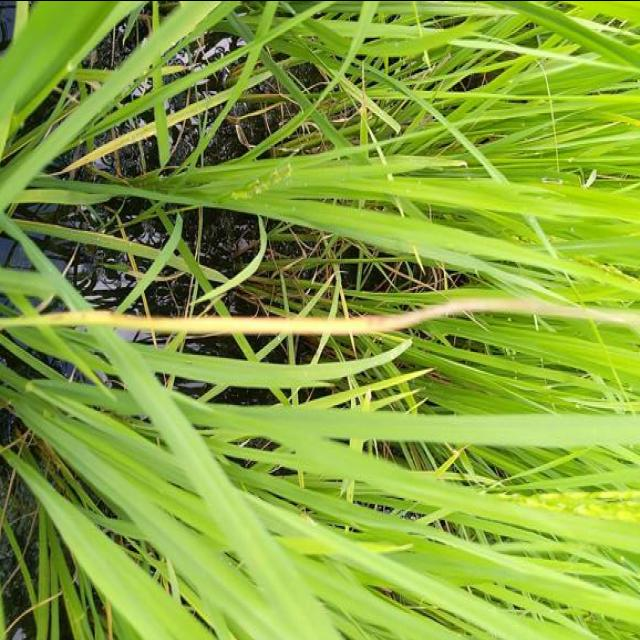Leaf Blight: (0, 295, 640, 332)
